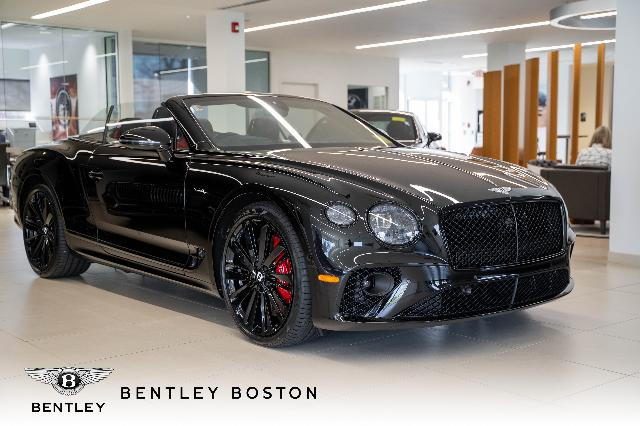bentley: (11, 92, 577, 348)
